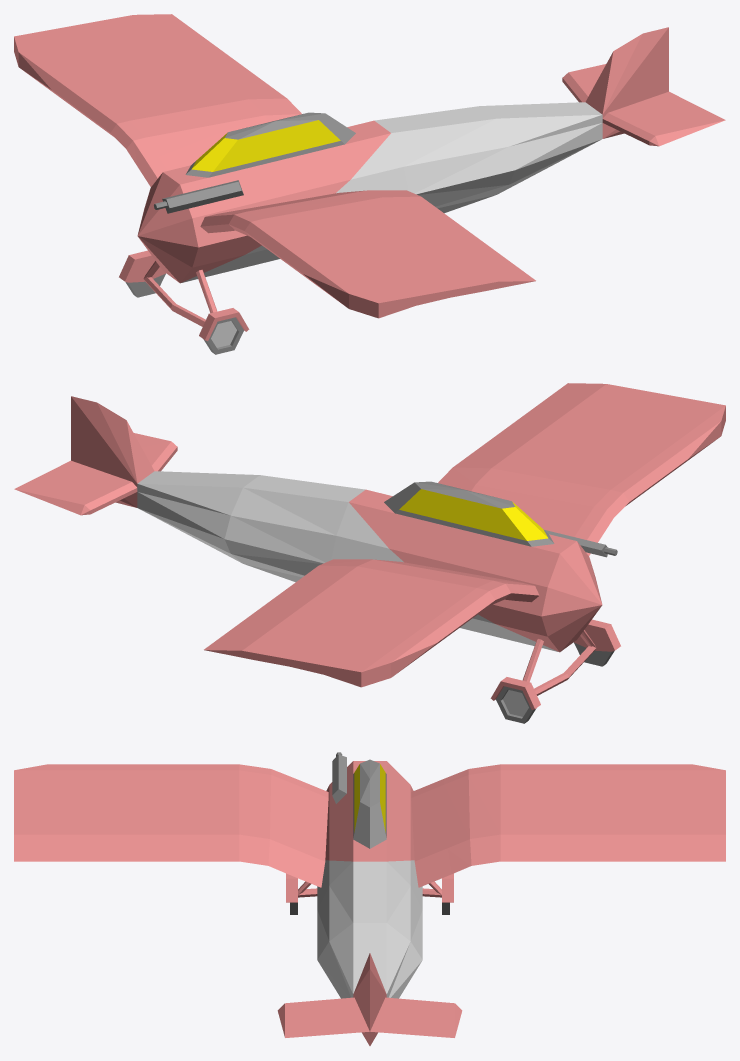
The model's file is Monobird Striker.fbx.
3 views of the same model, one above another, from view 1: azimuth 30°, elevation 25°; view 2: azimuth 150°, elevation 25°; view 3: azimuth 270°, elevation 25° (orthographic). The views are drawn at different scales.
Visible parts, largest first — view 1: Monobird Striker; view 2: Monobird Striker; view 3: Monobird Striker.
Boxes of the visible parts, <box> form: Monobird Striker: <box>14,14,725,354</box>; Monobird Striker: <box>14,383,725,723</box>; Monobird Striker: <box>14,752,725,1045</box>.
Size of the model in its own units: 769 by 241 by 892.
